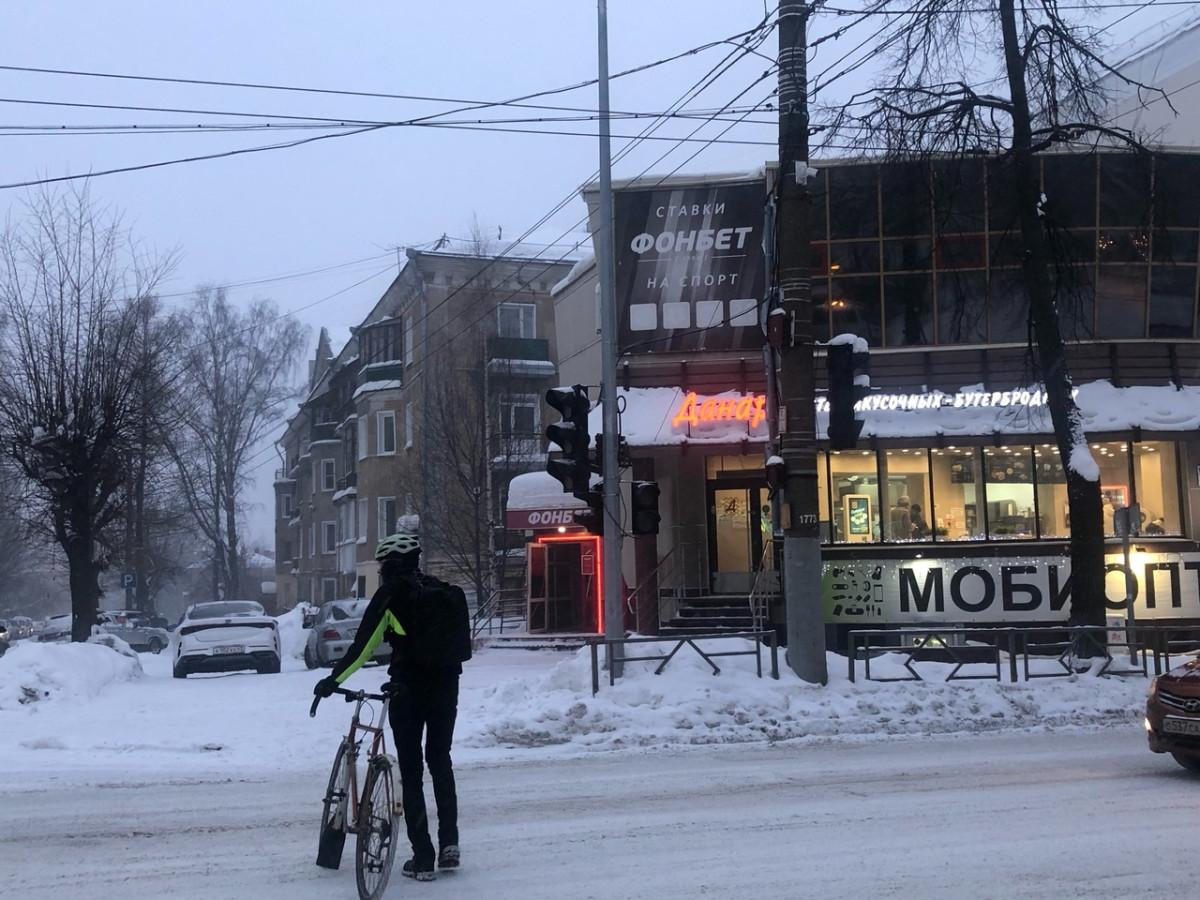off traffic light: (545, 384, 591, 493), (827, 342, 871, 450), (632, 482, 661, 534), (573, 483, 602, 533)
